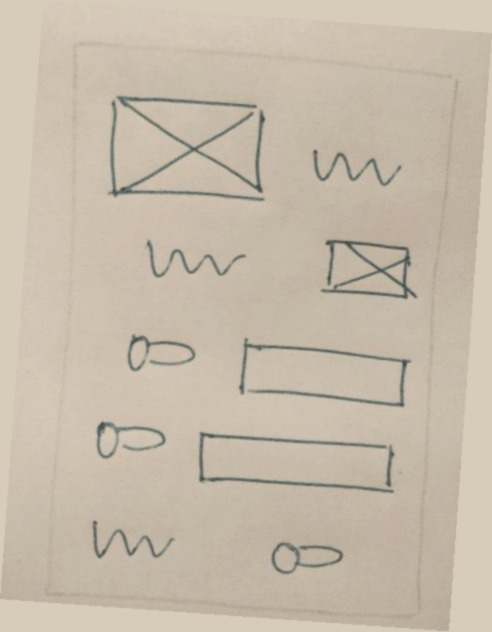image: (95, 84, 279, 220), (312, 226, 426, 319)
switch: (110, 319, 204, 388), (86, 413, 180, 482), (259, 520, 353, 589)
text: (127, 226, 253, 295), (301, 132, 406, 204), (79, 507, 188, 574)
text_input: (185, 415, 407, 506), (230, 329, 418, 417)
